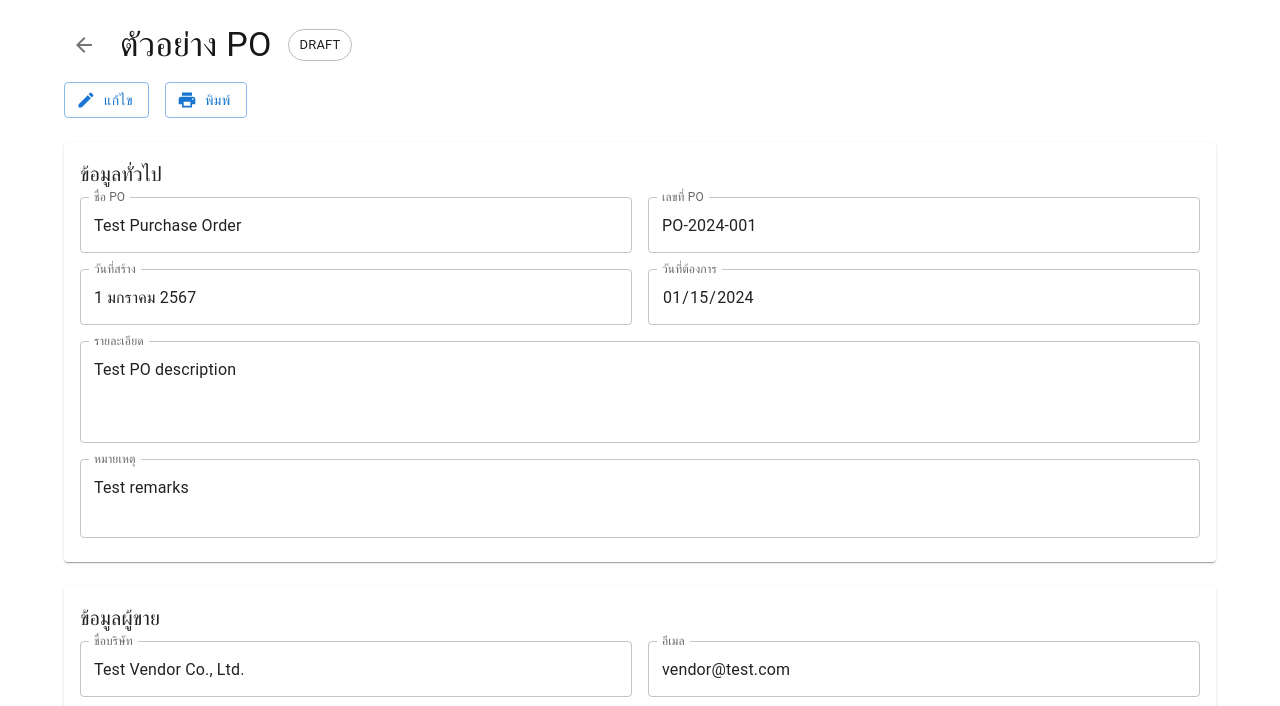
POEditPreview Component › Edit Functionality › enters edit mode when edit button is clicked
Click the button "แก้ไข" at x=106, y=100, box top-left (64, 82), bottom-right (149, 118)
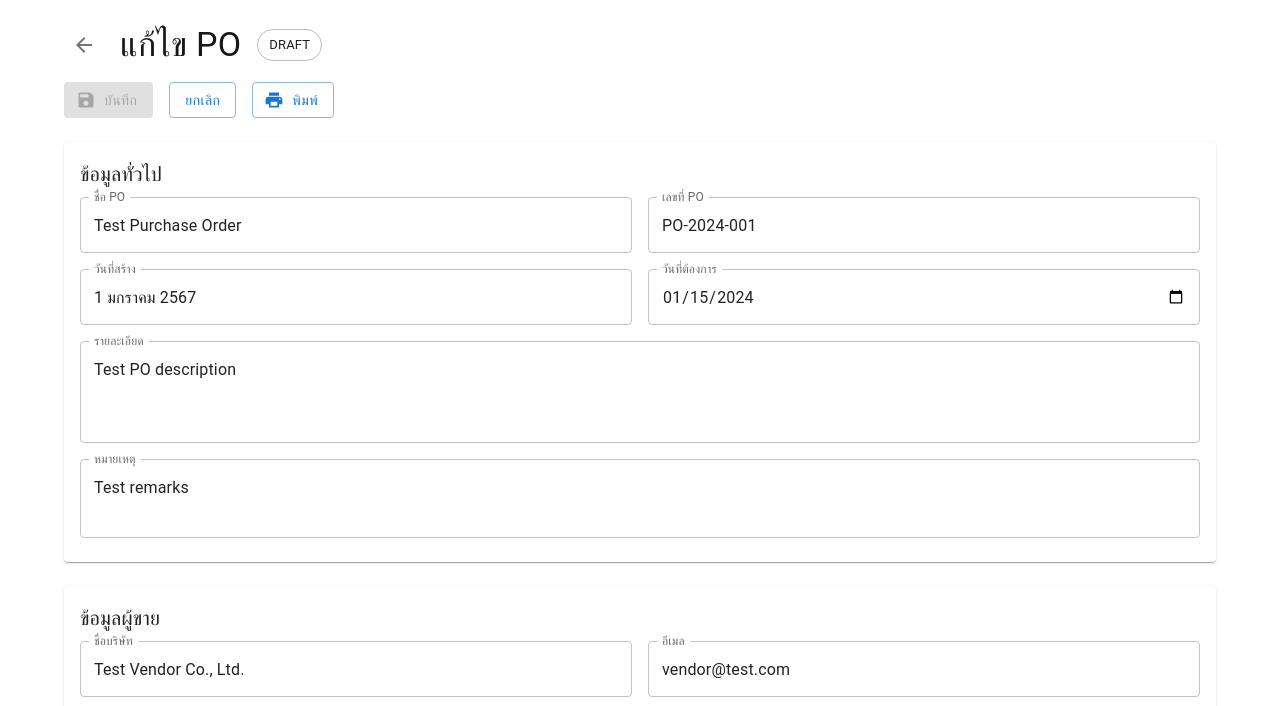
Result: the heading "แก้ไข PO" is shown at top-left (120, 24), bottom-right (241, 66)
Result: the button "บันทึก" is shown at top-left (64, 82), bottom-right (153, 118)
Result: the button "ยกเลิก" is shown at top-left (169, 82), bottom-right (236, 118)
